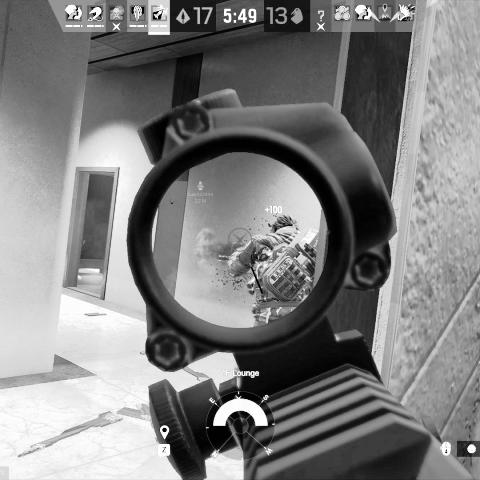Character: (227, 212, 320, 328)
Head: (271, 214, 301, 233)
